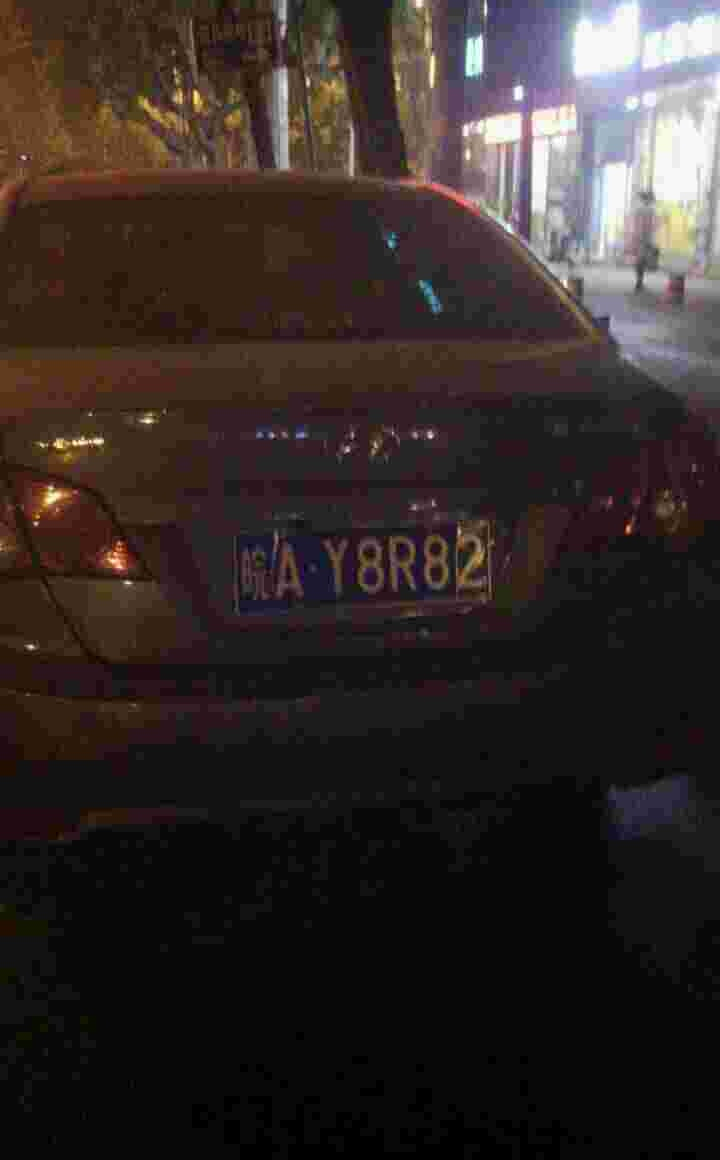license_plate: (225, 521, 501, 608)
